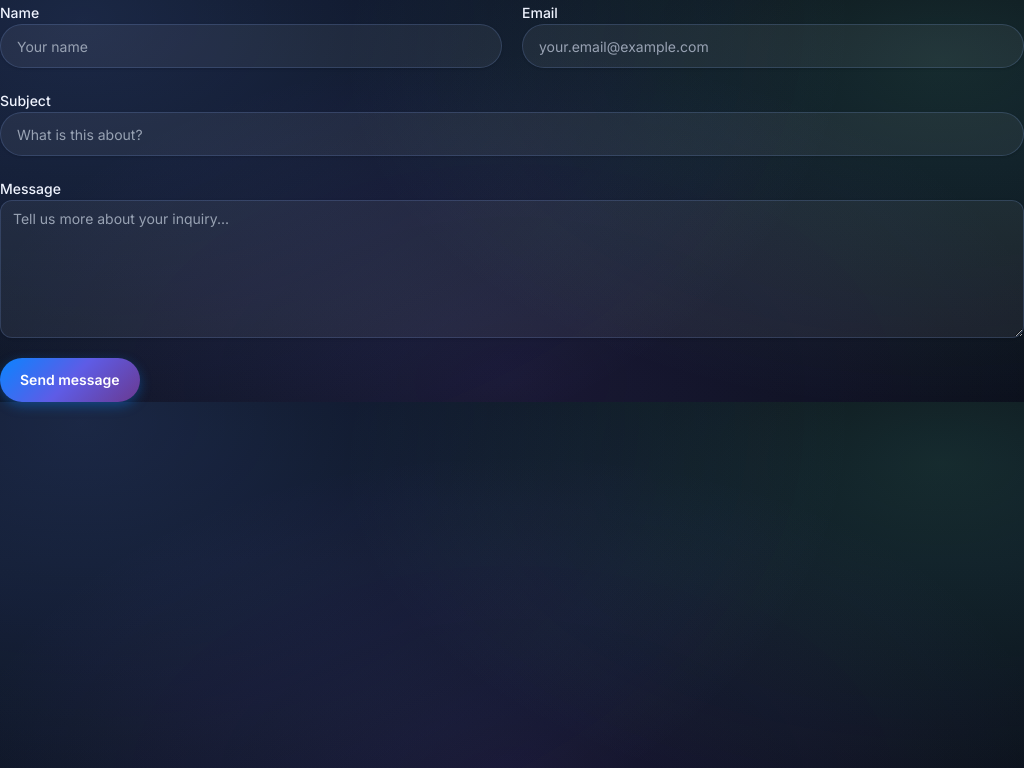
Test: ContactForm › shows validation errors when submitting empty form
Click the button "Send message" at point(70, 380), box [0, 358, 140, 402]
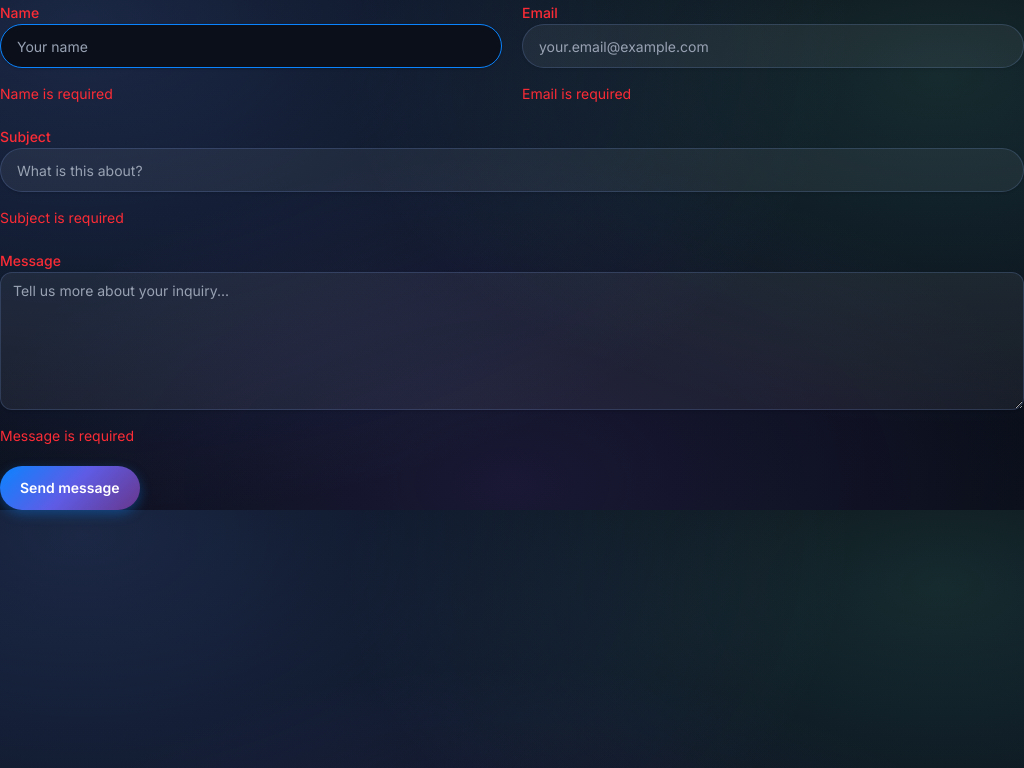
Result: the text "Name is required" is shown at [0, 85, 113, 102]
